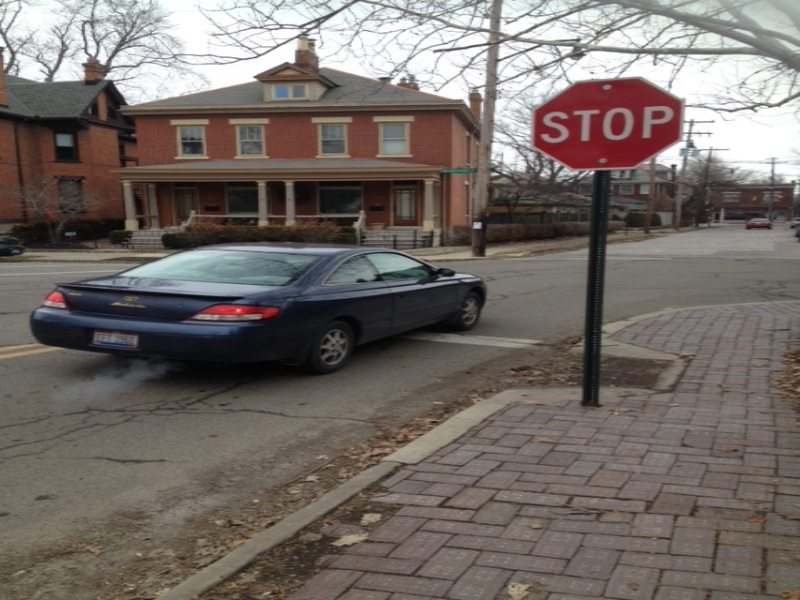stop sign: (529, 74, 689, 173)
